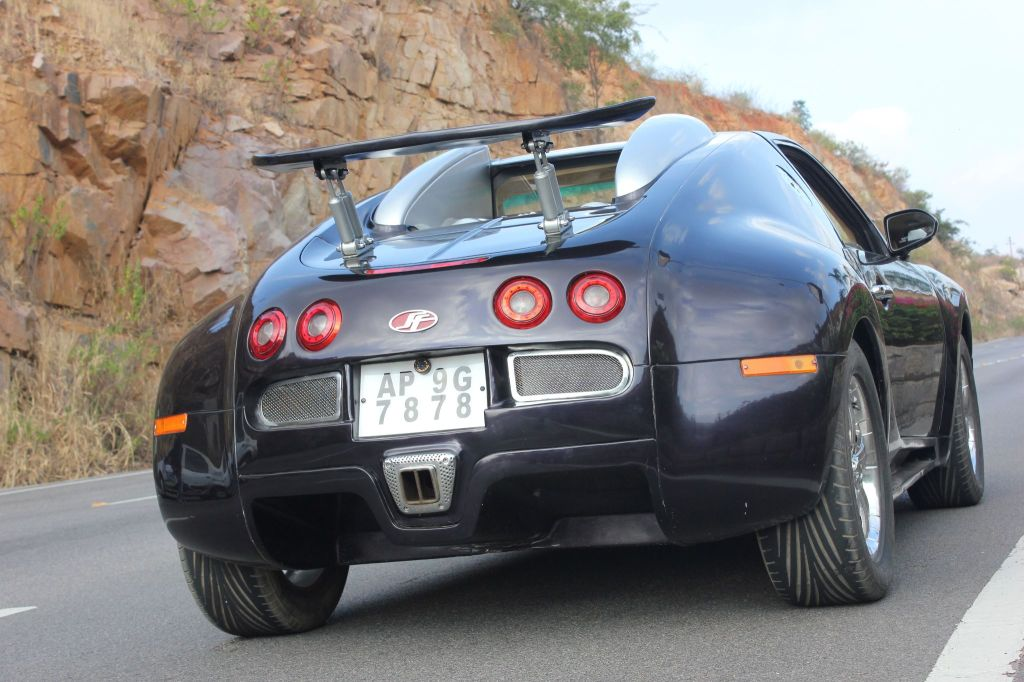number_plate: (345, 351, 497, 437)
